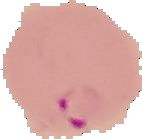parasitized: (52, 82, 113, 131)
